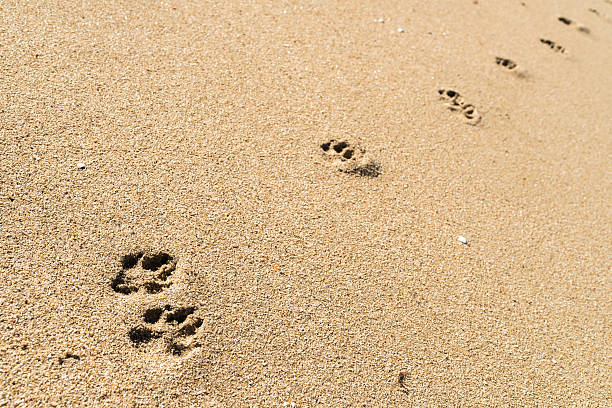animal_footprint: (128, 305, 202, 355), (111, 250, 175, 294), (320, 139, 380, 177), (438, 89, 481, 125), (495, 56, 527, 77), (558, 16, 590, 33), (540, 38, 564, 52), (495, 57, 516, 69)
